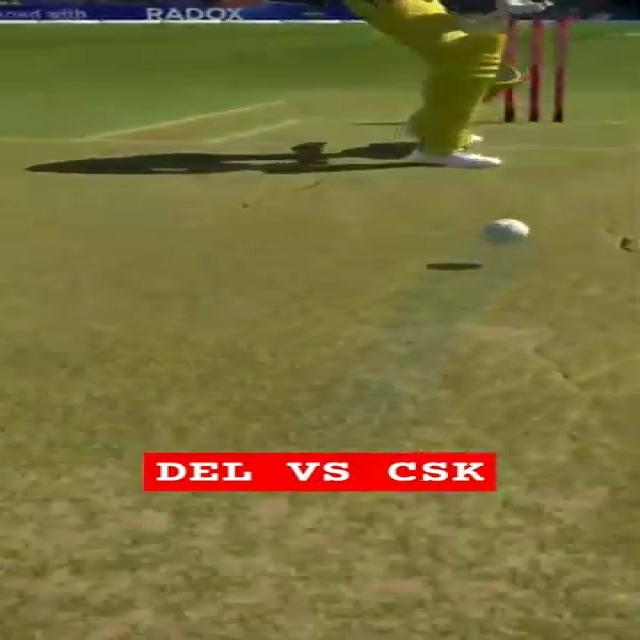ball: (480, 211, 532, 246)
